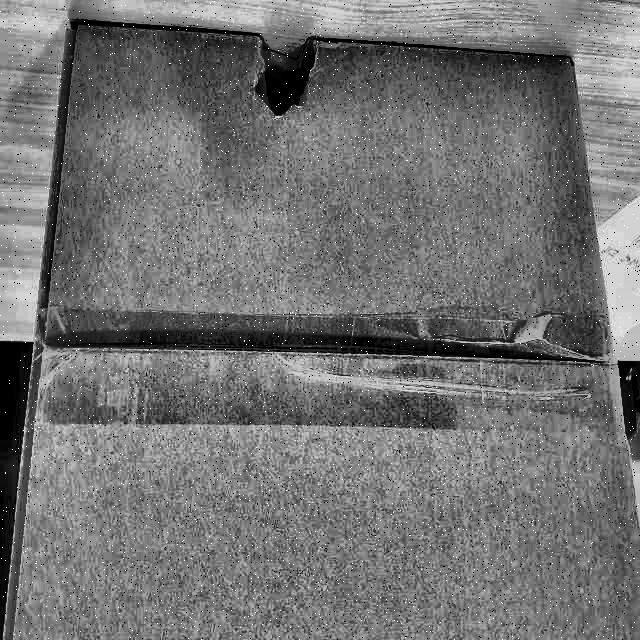box: (0, 15, 639, 640)
hole: (250, 36, 320, 118)
